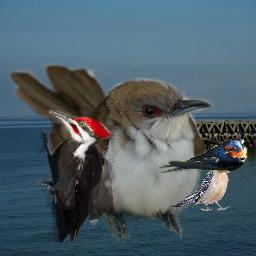Cuckoo: (9, 63, 214, 246)
Swallow: (159, 138, 248, 173)
Woodpecker: (35, 109, 115, 242), (169, 148, 238, 211)
